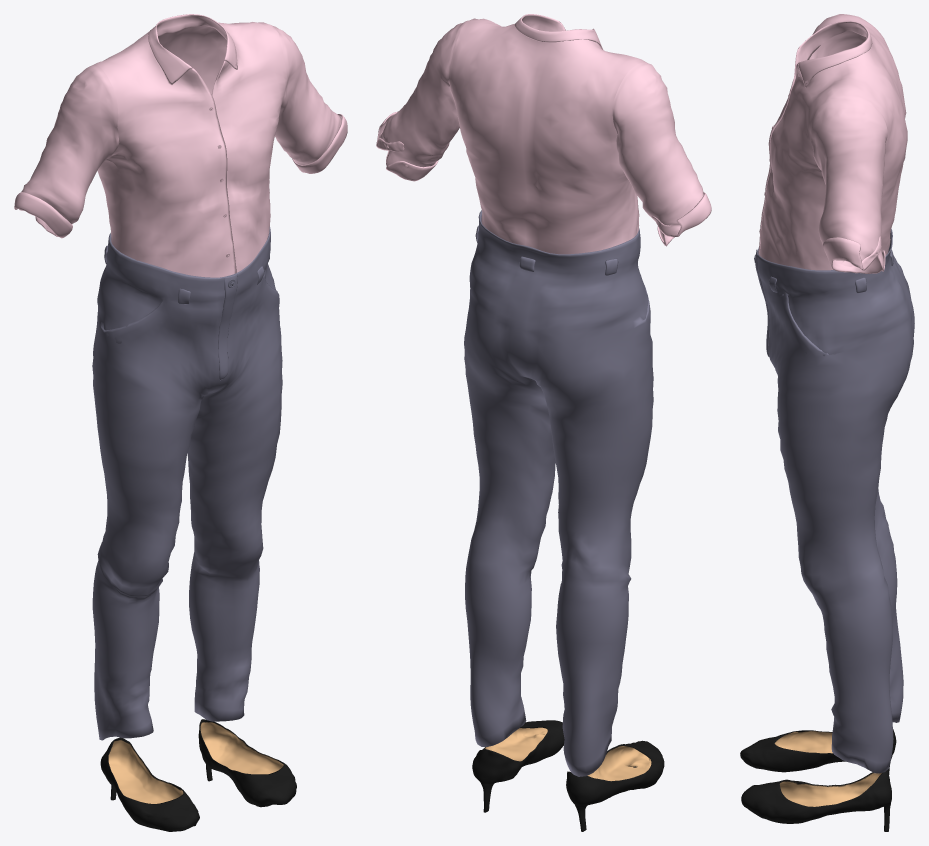
Rendered from outfit_2.fbx.
3 views of the same model, side by side, from view 1: azimuth 30°, elevation 25°; view 2: azimuth 150°, elevation 25°; view 3: azimuth 270°, elevation 25° (orthographic).
Visible parts, largest first — view 1: outfit_2; view 2: outfit_2; view 3: outfit_2.
Part boxes in pixels (x1,y1,x2,y2): outfit_2: (14, 14, 347, 831); outfit_2: (376, 14, 711, 831); outfit_2: (740, 14, 914, 831).
Bounding box in the file's own units: 71.59 × 163 × 33.12.
